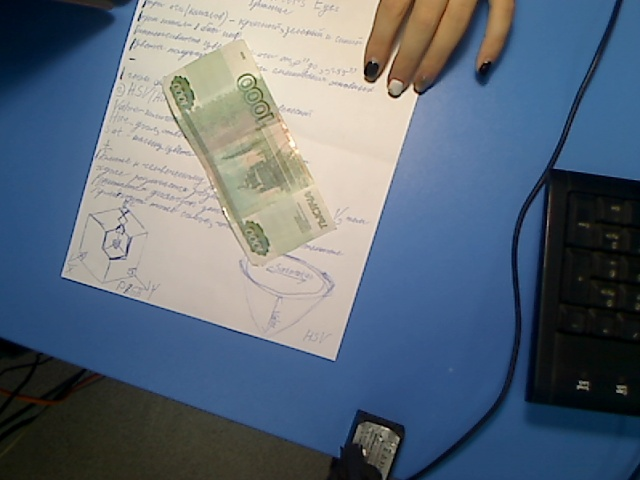banknotes: (162, 37, 338, 266)
